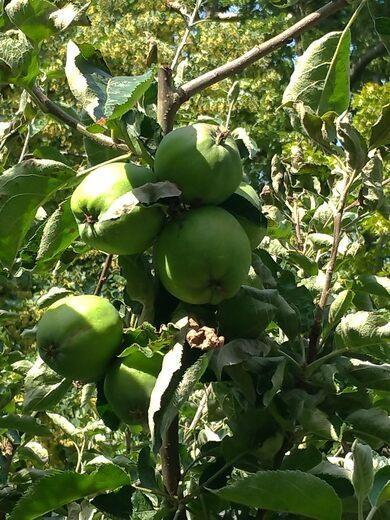apple: (69, 156, 179, 259), (151, 208, 252, 306), (28, 291, 123, 384), (154, 120, 245, 206), (103, 344, 166, 424)
